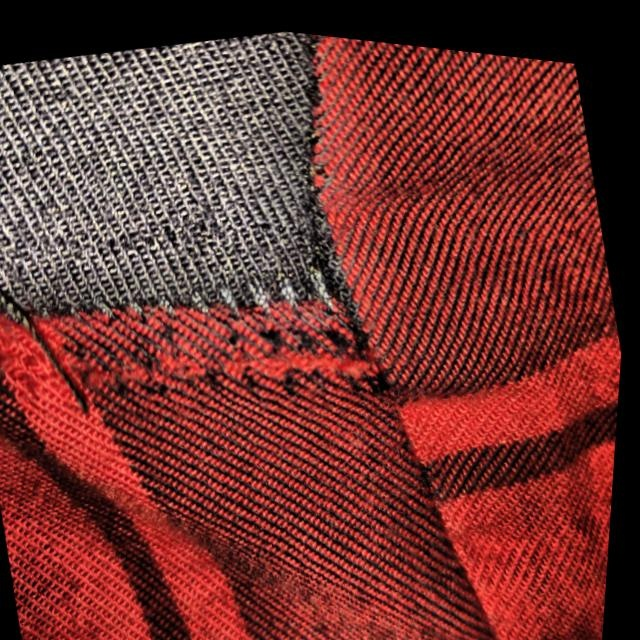Stitch: (0, 153, 417, 501)
